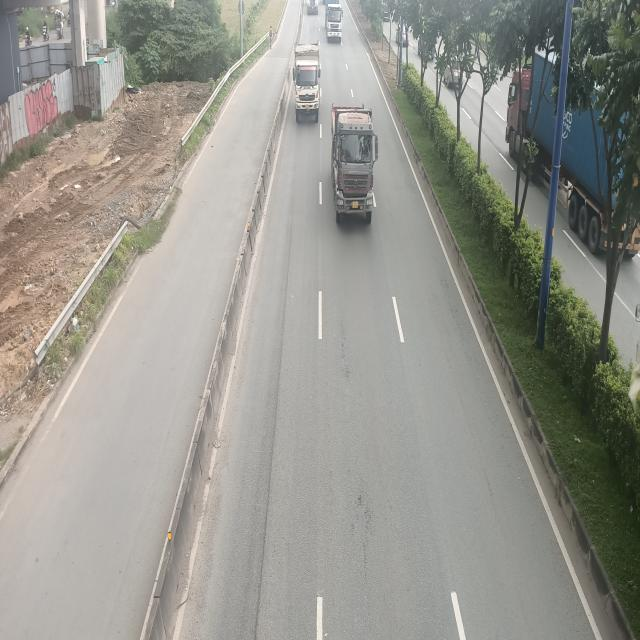container: (331, 105, 380, 224)
truck: (292, 43, 321, 120), (327, 1, 344, 44)
